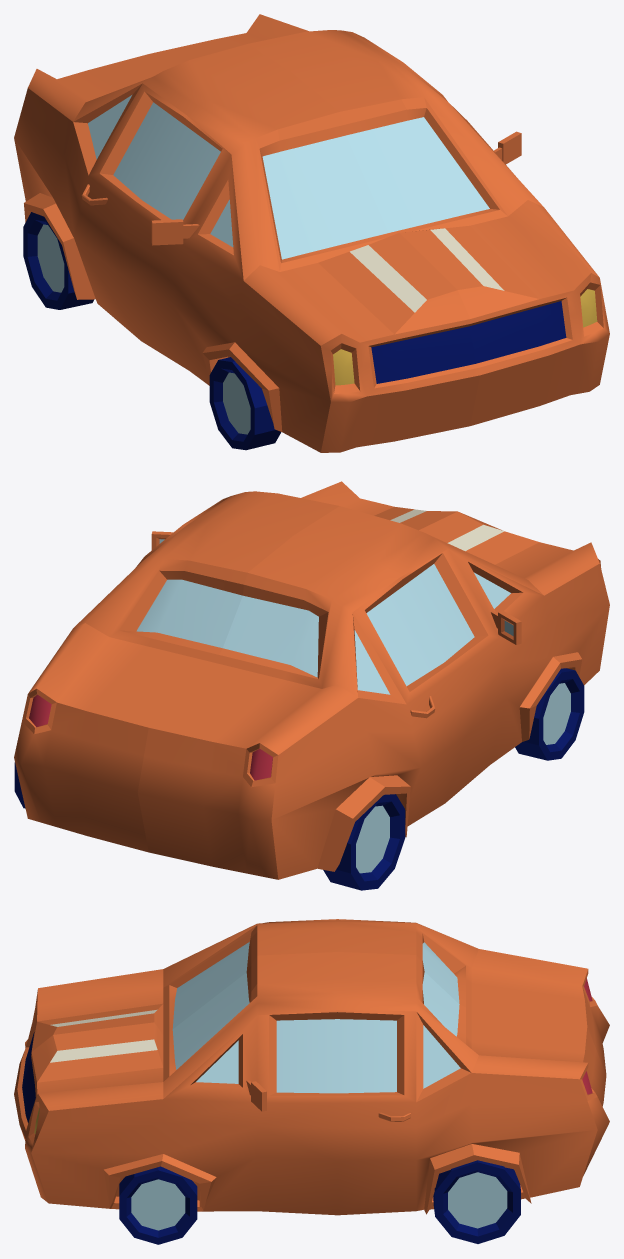
File: OrangeCar.fbx
3 renders of one model, top to bottom at view 1: azimuth 30°, elevation 25°; view 2: azimuth 150°, elevation 25°; view 3: azimuth 270°, elevation 25°, orthographic. The views are drawn at different scales.
Visible parts, largest first — view 1: Body, pCylinder4, pCylinder3, Mirror1, Mirror; view 2: Body, pCylinder3, pCylinder4, Mirror1; view 3: Body, pCylinder2, pCylinder1.
Boxes of the visible parts, bbox=[...] form: Body: bbox=[14, 14, 609, 452]; pCylinder4: bbox=[209, 357, 281, 450]; pCylinder3: bbox=[23, 212, 94, 309]; Mirror1: bbox=[151, 219, 199, 245]; Mirror: bbox=[494, 131, 521, 164]; Body: bbox=[14, 481, 609, 879]; pCylinder3: bbox=[323, 794, 405, 890]; pCylinder4: bbox=[515, 668, 584, 760]; Mirror1: bbox=[491, 610, 521, 644]; Body: bbox=[14, 919, 609, 1215]; pCylinder2: bbox=[433, 1160, 520, 1243]; pCylinder1: bbox=[119, 1166, 197, 1244].
Size of the model in its own units: 3.68 by 2.46 by 5.95.
